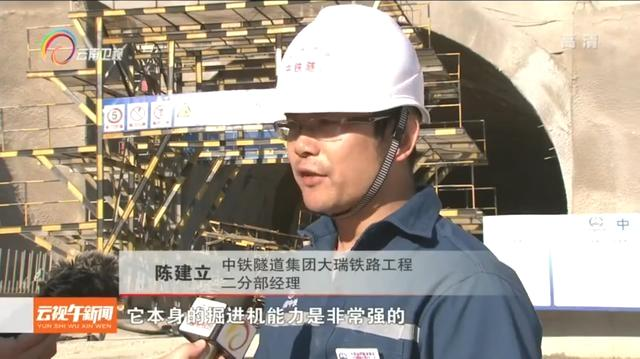helmet: (267, 5, 424, 211)
not_reflective: (235, 191, 529, 359)
